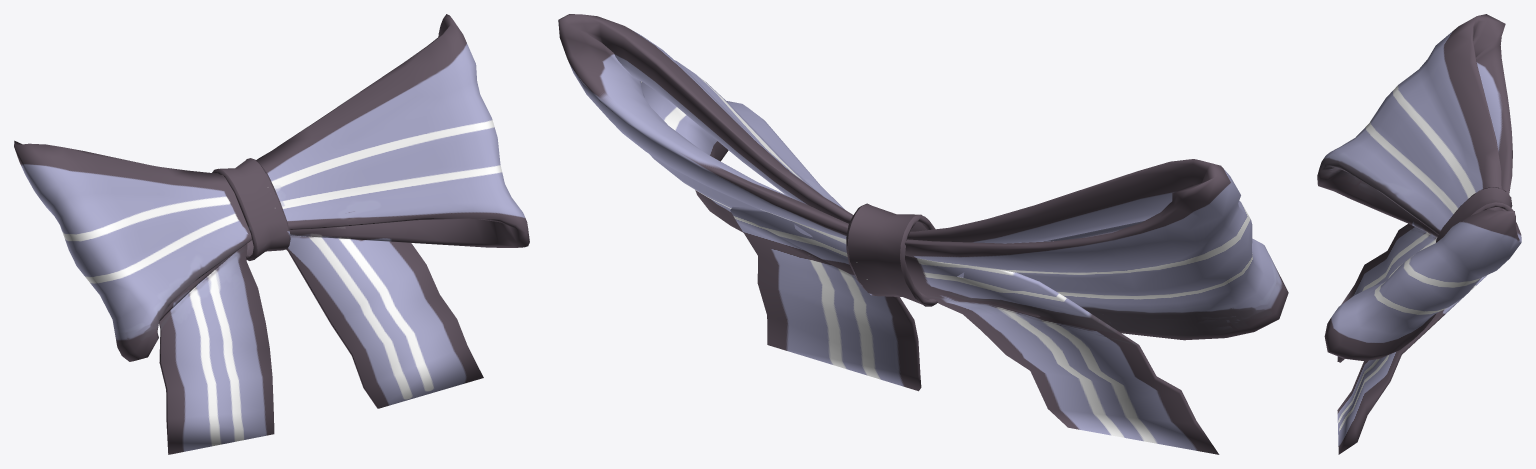
Rendered from NinoRibbon.fbx.
The picture shows the model from 3 angles, left to right: view 1: azimuth 30°, elevation 25°; view 2: azimuth 150°, elevation 25°; view 3: azimuth 270°, elevation 25°; orthographic projection. The views are drawn at different scales.
Visible parts, largest first — view 1: RibbonBow; view 2: RibbonBow; view 3: RibbonBow.
Boxes of the visible parts, <box> form: RibbonBow: <box>14,14,529,454</box>; RibbonBow: <box>558,14,1288,454</box>; RibbonBow: <box>1317,14,1521,454</box>.
Size of the model in its own units: 14.32 by 8.72 by 5.88.
Materials: 1 (1 with a texture image).
